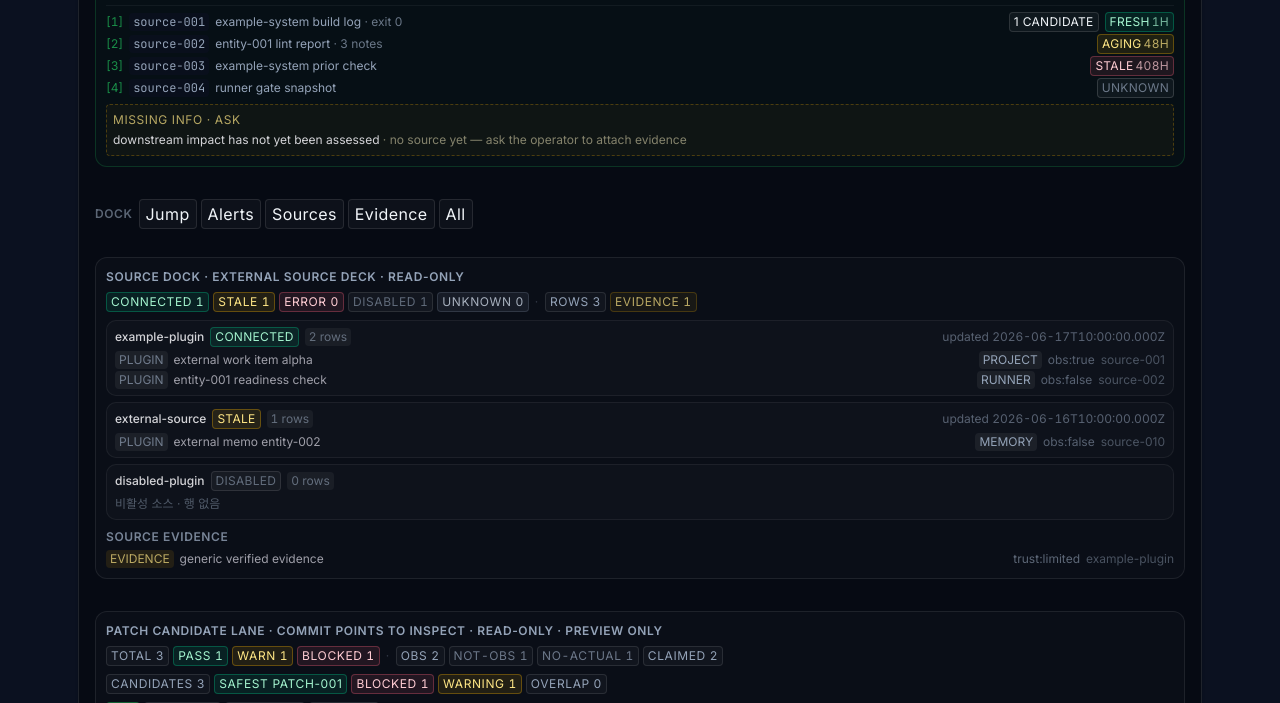
Test: Batch 15 LINE E — source detail drawer (zero-button, view-only) › Escape closes the drawer
This screenshot has width=1280, height=703.
(page scrolled)
Click the button with test id "plugin-row-example-plugin-0" at [141, 360], box x1=115 y1=351 x2=1165 y2=369
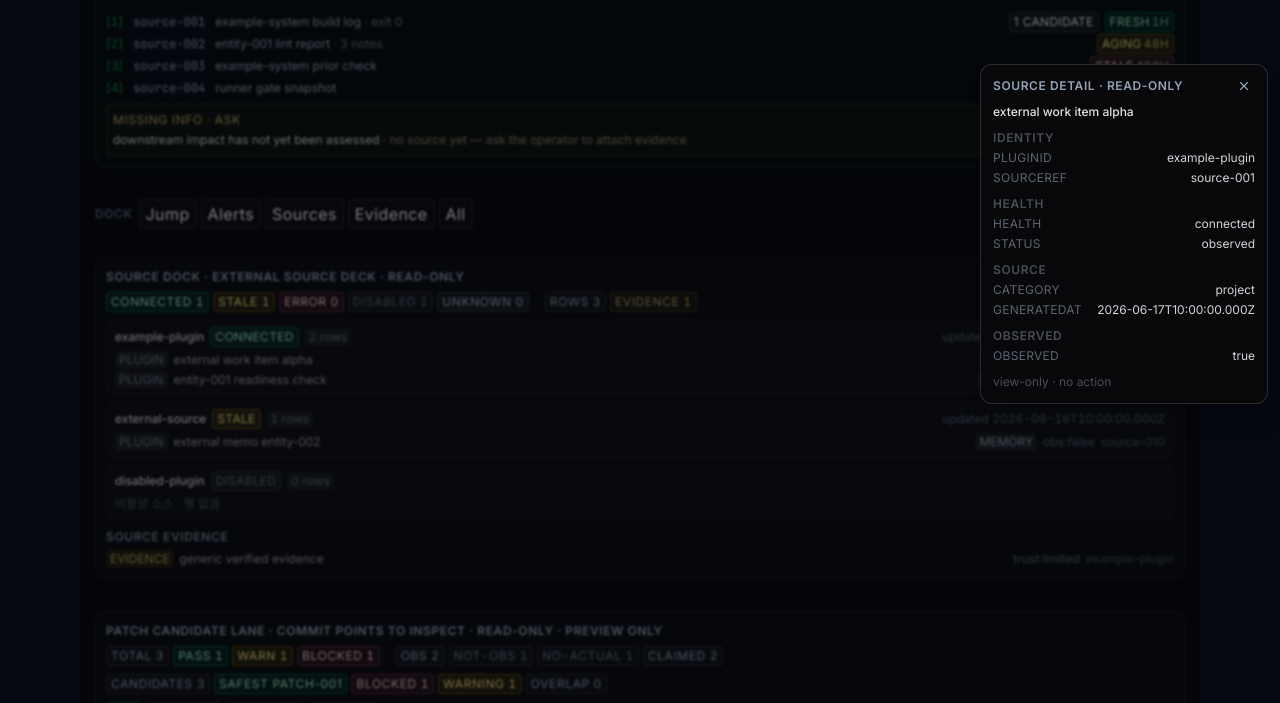
expect the dialog with test id "source-detail-drawer" is shown: met, box x1=980 y1=64 x2=1268 y2=404
Press Escape
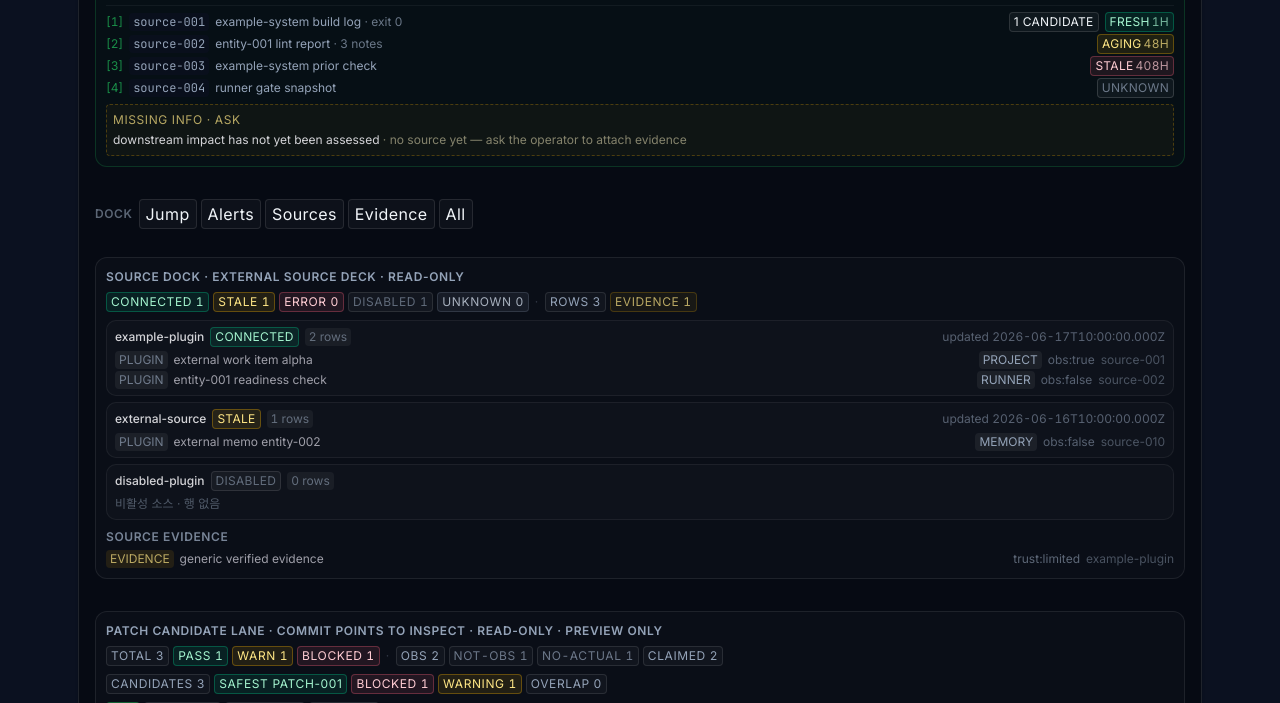
expect the dialog with test id "source-detail-drawer" is gone: met
